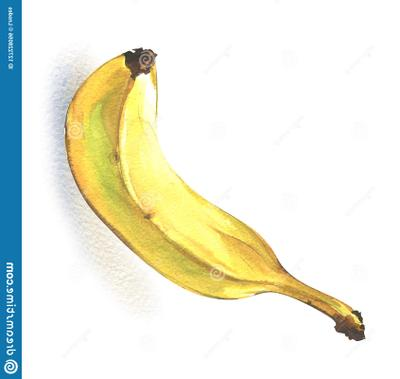banana: (0, 0, 400, 379)
